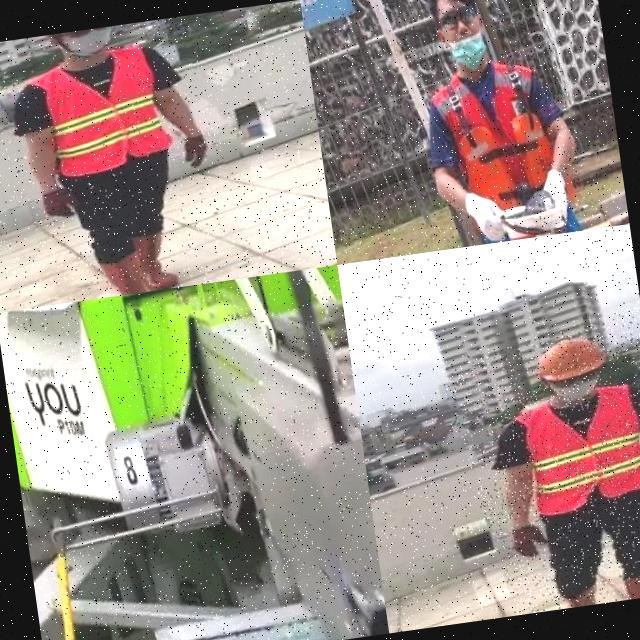boots: (129, 227, 183, 293), (95, 246, 158, 298), (538, 582, 610, 612), (619, 561, 640, 600)
helmet: (524, 323, 614, 391), (494, 186, 574, 242)
vest: (421, 44, 589, 250), (24, 41, 176, 187), (507, 376, 640, 521)
